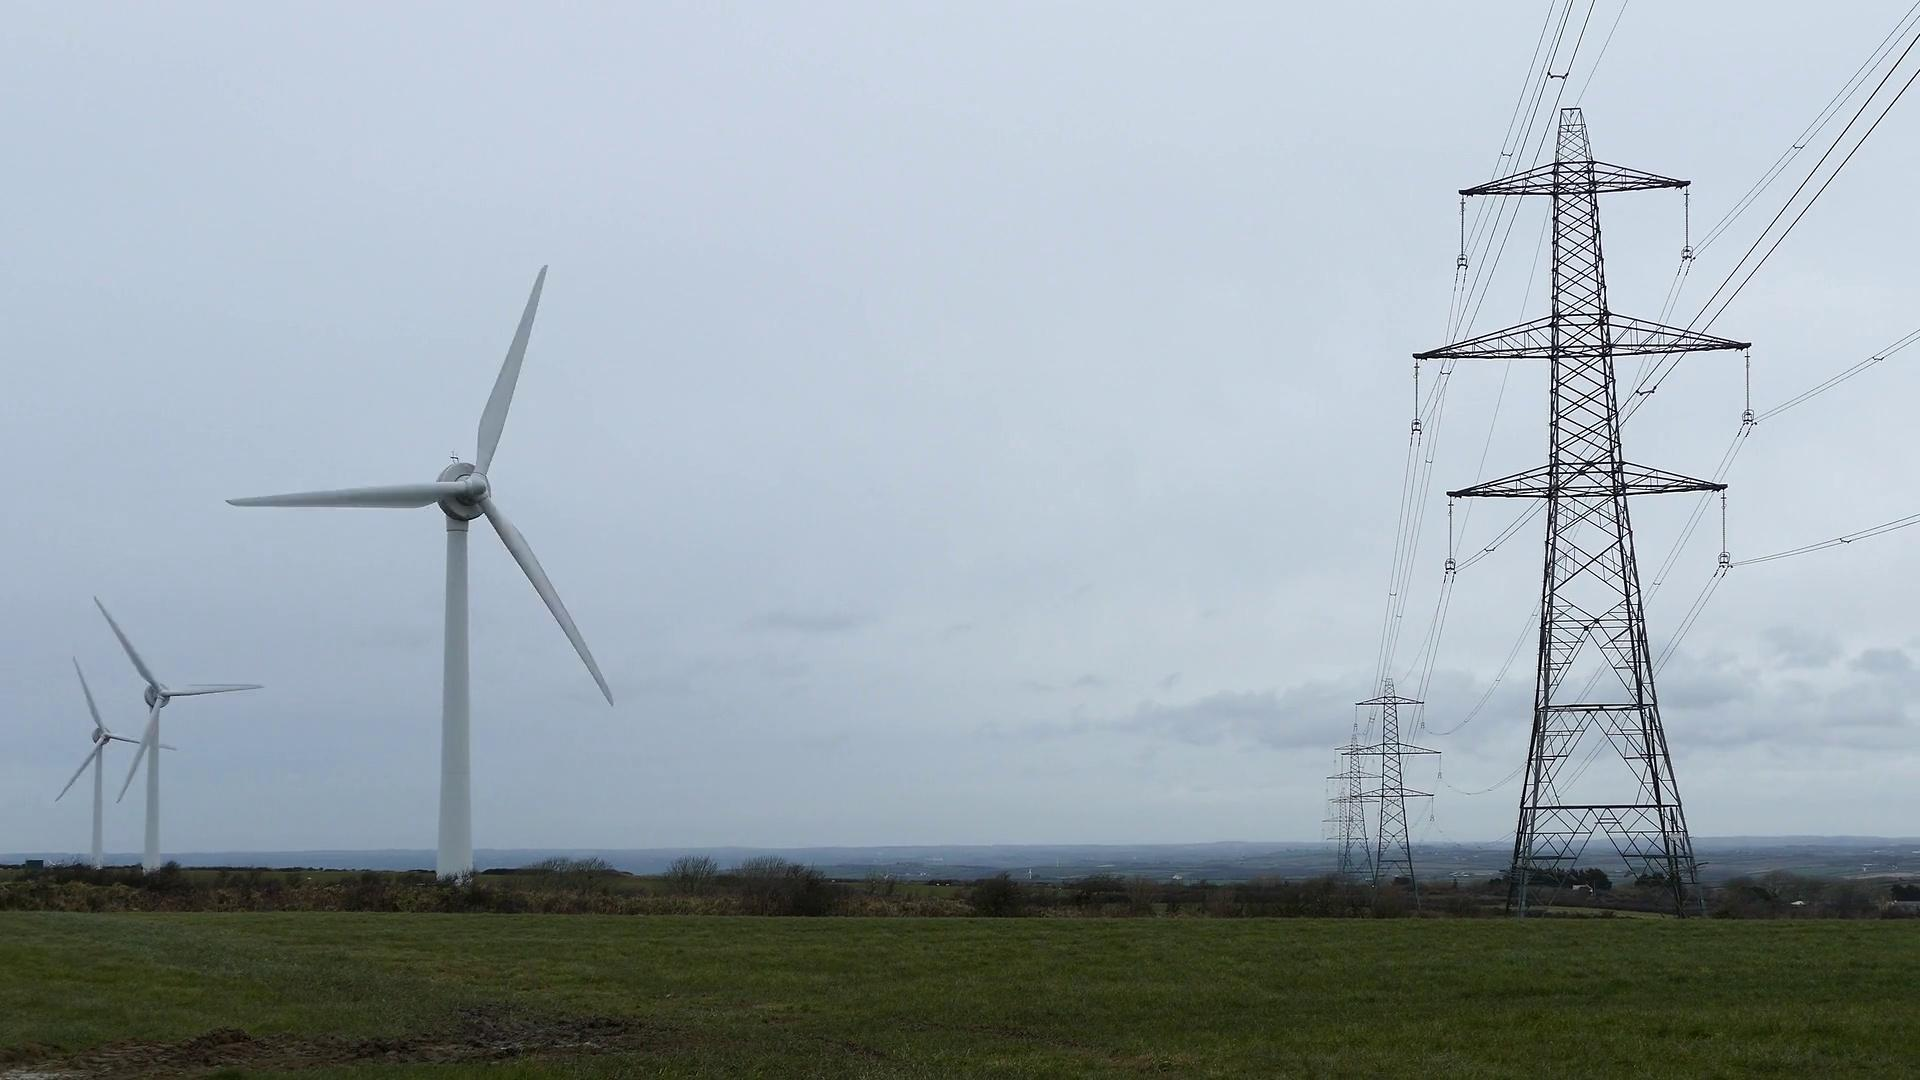cable tower: (1408, 105, 1753, 924), (1340, 676, 1443, 913), (1327, 738, 1382, 887), (1323, 791, 1360, 873)
turbine: (218, 175, 740, 949), (63, 579, 293, 918), (37, 633, 193, 887)
